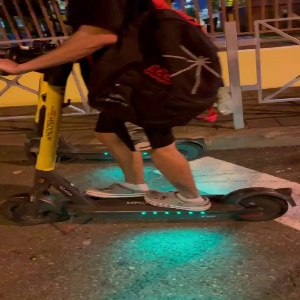human on a scooter: (1, 1, 296, 237)
